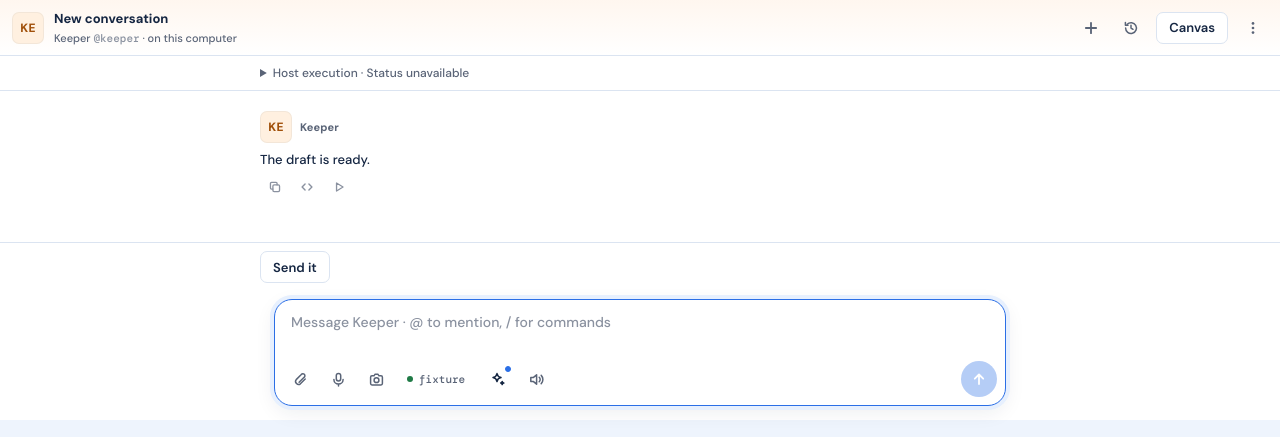
Test: taking a chip › takes it in the open conversation, and the chip goes at once
The image size is (1280, 437).
Click the button "Send it". click: [295, 267]
box: top-left (260, 251), bottom-right (330, 283)
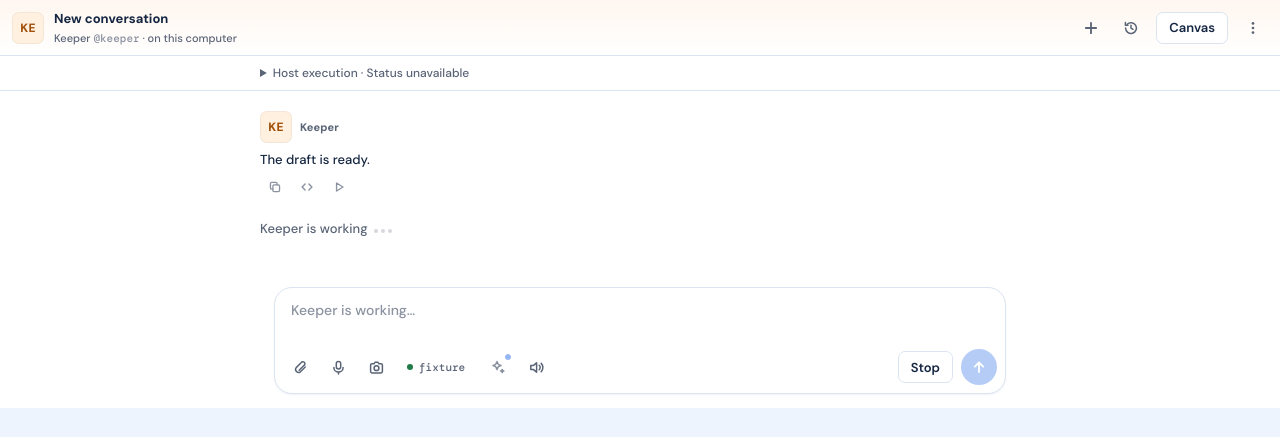
Now the button "Send it" is gone
